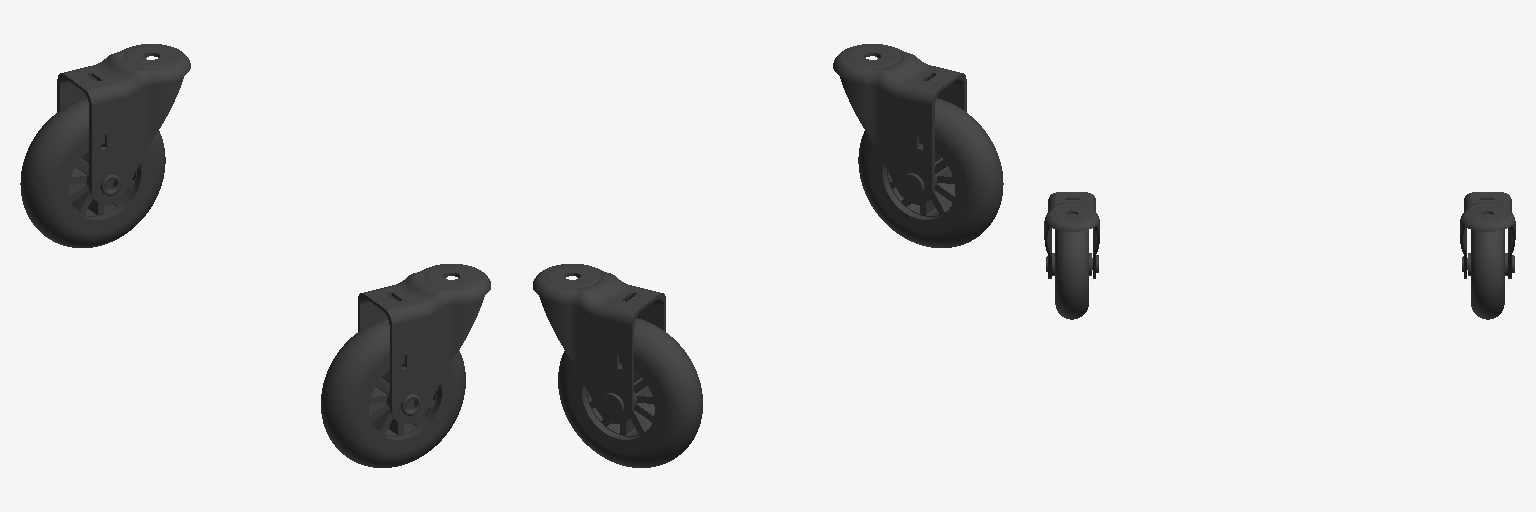
robot.urdf — d03x:
<?xml version="1.0"?>
<robot name="d03x" xmlns:xacro="https://ros.org/wiki/xacro">

  <material name="dark">
    <color rgba="0.3 0.3 0.3 1.0"/>
  </material>

  <material name="alminium">
    <color rgba=".8 .8 .8 1"/>
  </material>

  <link name="base_footprint"/>

  <joint name="base_joint" type="fixed">
    <parent link="base_footprint"/>
    <child link="base_link"/>
    <origin xyz="0 0 0" rpy="0 0 0"/>
  </joint>

  <link name="base_link">
    <visual>
      <origin xyz="0 0 0" rpy="0 0 0"/>
      <geometry>
        <mesh filename="package://d03_description/meshes/base.stl" scale="0.001 0.001 0.001"/>
      </geometry>
      <material name="alminium"/>
    </visual>
    <collision>
      <origin xyz="0 0 0" rpy="0 0 0"/>
      <geometry>
        <mesh filename="package://d03_description/meshes/base.stl" scale="0.001 0.001 0.001"/>
      </geometry>
    </collision>
  </link>

  <joint name="wheel_left_joint" type="continuous">
    <parent link="base_link"/>
    <child link="left_wheel_link"/>
    <origin xyz="0.129 0.153 0.101" rpy="1.570796 0 0"/>
    <limit effort="1.0" velocity="1.0"/>
    <axis rpy="0 0 0" xyz="0 0 1"/>
  </joint>

  <link name="left_wheel_link">
    <visual>
      <origin xyz="0 0 0" rpy="0 0 0"/>
      <geometry>
        <mesh filename="package://d03_description/meshes/wheel_and_hub.stl" scale="0.001 0.001 0.001"/>
      </geometry>
      <material name="dark"/>
    </visual>
    <collision>
      <origin xyz="0 0 0" rpy="0 0 0"/>
      <geometry>
        <mesh filename="package://d03_description/meshes/wheel_and_hub.stl" scale="0.001 0.001 0.001"/>
      </geometry>
    </collision>
  </link>


  <joint name="wheel_right_joint" type="continuous">
    <parent link="base_link"/>
    <child link="right_wheel_link"/>
    <origin xyz="0.129 -0.153 0.101" rpy="-1.570796 0 0"/>
    <limit effort="1.0" velocity="1.0"/>
    <axis rpy="0 0 0" xyz="0 0 1"/>
  </joint>

  <link name="right_wheel_link">
    <visual>
      <origin xyz="0 0 0" rpy="0 0 0"/>
      <geometry>
        <mesh filename="package://d03_description/meshes/wheel_and_hub.stl" scale="0.001 0.001 0.001"/>
      </geometry>
      <material name="dark"/>
    </visual>
    <collision>
      <origin xyz="0 0 0" rpy="0 0 0"/>
      <geometry>
        <mesh filename="package://d03_description/meshes/wheel_and_hub.stl" scale="0.001 0.001 0.001"/>
      </geometry>
    </collision>
  </link>

  <!--left caster-->
  <joint name="caster_housing_left_joint" type="continuous">
    <parent link="base_link"/>
    <child link="caster_housing_left_link"/>
    <origin xyz="-0.14 0.14 0.089837" rpy="0 0 3.1415926"/>
    <!-- <limit effort="1.0" velocity="1.0"/> -->
    <axis rpy="0 0 0" xyz="0 0 1"/>
  </joint>

  <link name="caster_housing_left_link">
    <visual>
      <origin xyz="0 0 0" rpy="0 0 0"/>
      <geometry>
        <mesh filename="package://d03_description/meshes/caster_housing.stl" scale="0.001 0.001 0.001"/>
      </geometry>
      <material name="dark"/>
    </visual>
    <collision>
      <origin xyz="0 0 0" rpy="0 0 0"/>
      <geometry>
        <mesh filename="package://d03_description/meshes/caster_housing.stl" scale="0.001 0.001 0.001"/>
      </geometry>
    </collision>
  </link>

  <joint name="caster_wheel_left_joint" type="continuous">
    <parent link="caster_housing_left_link"/>
    <child link="caster_wheel_left_link"/>
    <origin xyz="0.031 0.0 -0.052" rpy="0 0 0"/>
    <!-- <limit effort="1.0" velocity="1.0"/> -->
    <axis rpy="0 0 0" xyz="0 1 0"/>
  </joint>

  <link name="caster_wheel_left_link">
    <visual>
      <origin xyz="0 0 0" rpy="0 0 0"/>
      <geometry>
        <mesh filename="package://d03_description/meshes/caster_wheel.stl" scale="0.001 0.001 0.001"/>
      </geometry>
      <material name="dark"/>
    </visual>
    <collision>
      <origin xyz="0 0 0" rpy="0 0 0"/>
      <geometry>
        <mesh filename="package://d03_description/meshes/caster_wheel.stl" scale="0.001 0.001 0.001"/>
      </geometry>
    </collision>
  </link>
  <!--right caster-->
  <joint name="caster_housing_right_joint" type="continuous">
    <parent link="base_link"/>
    <child link="caster_housing_right_link"/>
    <origin xyz="-0.14 -0.14 0.089837" rpy="0 0 3.1415926"/>
    <!-- <limit effort="1.0" velocity="1.0"/> -->
    <axis rpy="0 0 0" xyz="0 0 1"/>
  </joint>

  <link name="caster_housing_right_link">
    <visual>
      <origin xyz="0 0 0" rpy="0 0 0"/>
      <geometry>
        <mesh filename="package://d03_description/meshes/caster_housing.stl" scale="0.001 0.001 0.001"/>
      </geometry>
      <material name="dark"/>
    </visual>
    <collision>
      <origin xyz="0 0 0" rpy="0 0 0"/>
      <geometry>
        <mesh filename="package://d03_description/meshes/caster_housing.stl" scale="0.001 0.001 0.001"/>
      </geometry>
    </collision>
  </link>

  <joint name="caster_wheel_right_joint" type="continuous">
    <parent link="caster_housing_right_link"/>
    <child link="caster_wheel_right_link"/>
    <origin xyz="0.031 0.0 -0.052" rpy="0 0 0"/>
    <!-- <limit effort="1.0" velocity="1.0"/> -->
    <axis rpy="0 0 0" xyz="0 1 0"/>
  </joint>

  <link name="caster_wheel_right_link">
    <visual>
      <origin xyz="0 0 0" rpy="0 0 0"/>
      <geometry>
        <mesh filename="package://d03_description/meshes/caster_wheel.stl" scale="0.001 0.001 0.001"/>
      </geometry>
      <material name="dark"/>
    </visual>
    <collision>
      <origin xyz="0 0 0" rpy="0 0 0"/>
      <geometry>
        <mesh filename="package://d03_description/meshes/caster_wheel.stl" scale="0.001 0.001 0.001"/>
      </geometry>
    </collision>
  </link>
</robot>

--- Facts derived from the render (not from the file) ---
Views: 3 orthographic renders of the robot side by side, from view 1: azimuth 30°, elevation 25°; view 2: azimuth 150°, elevation 25°; view 3: azimuth 270°, elevation 25°.
Model d03x with 8 links and 7 joints (6 continuous, 1 fixed), rooted at base_footprint, posed every joint at zero.
Links seen in each view (by area): view 1: caster_wheel_right_link, caster_wheel_left_link, caster_housing_left_link, caster_housing_right_link; view 2: caster_wheel_left_link, caster_wheel_right_link, caster_housing_right_link, caster_housing_left_link; view 3: caster_wheel_left_link, caster_wheel_right_link, caster_housing_right_link, caster_housing_left_link.
Link boxes in pixels (x1,y1,x2,y2): caster_wheel_right_link: [321, 318, 465, 467]; caster_wheel_left_link: [20, 98, 165, 247]; caster_housing_left_link: [57, 44, 190, 204]; caster_housing_right_link: [358, 264, 490, 423]; caster_wheel_left_link: [558, 318, 702, 467]; caster_wheel_right_link: [858, 98, 1003, 247]; caster_housing_right_link: [833, 44, 966, 204]; caster_housing_left_link: [533, 264, 665, 423]; caster_wheel_left_link: [1468, 214, 1507, 319]; caster_wheel_right_link: [1052, 214, 1091, 319]; caster_housing_right_link: [1044, 192, 1099, 278]; caster_housing_left_link: [1460, 192, 1515, 278].
Size in the robot's own frame: 0.0873 by 0.3173 by 0.0896 metres.
Meshes: 4 distinct files referenced, 4 mesh visuals loaded (2 binary STL); not drawn: 3 (reference not matched to a file when rendering).